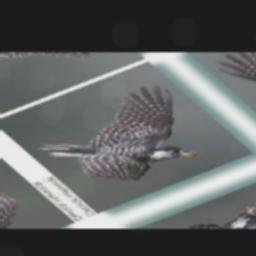Woodpecker: (18, 74, 240, 199)
